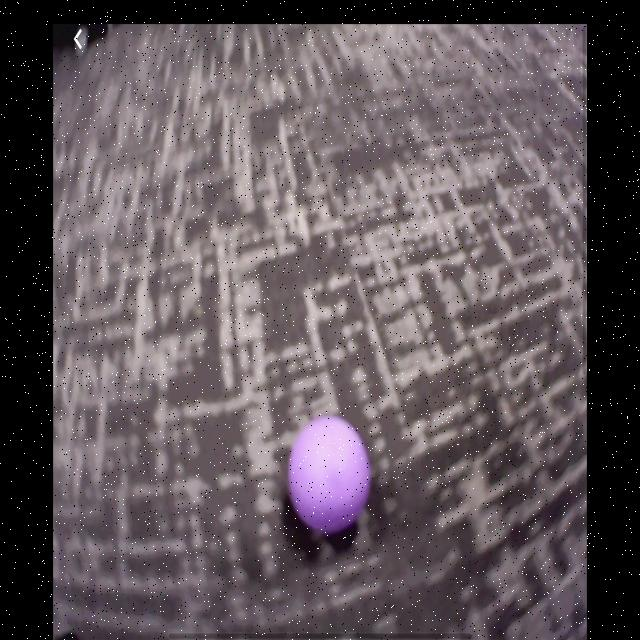ball: (292, 415, 369, 534)
